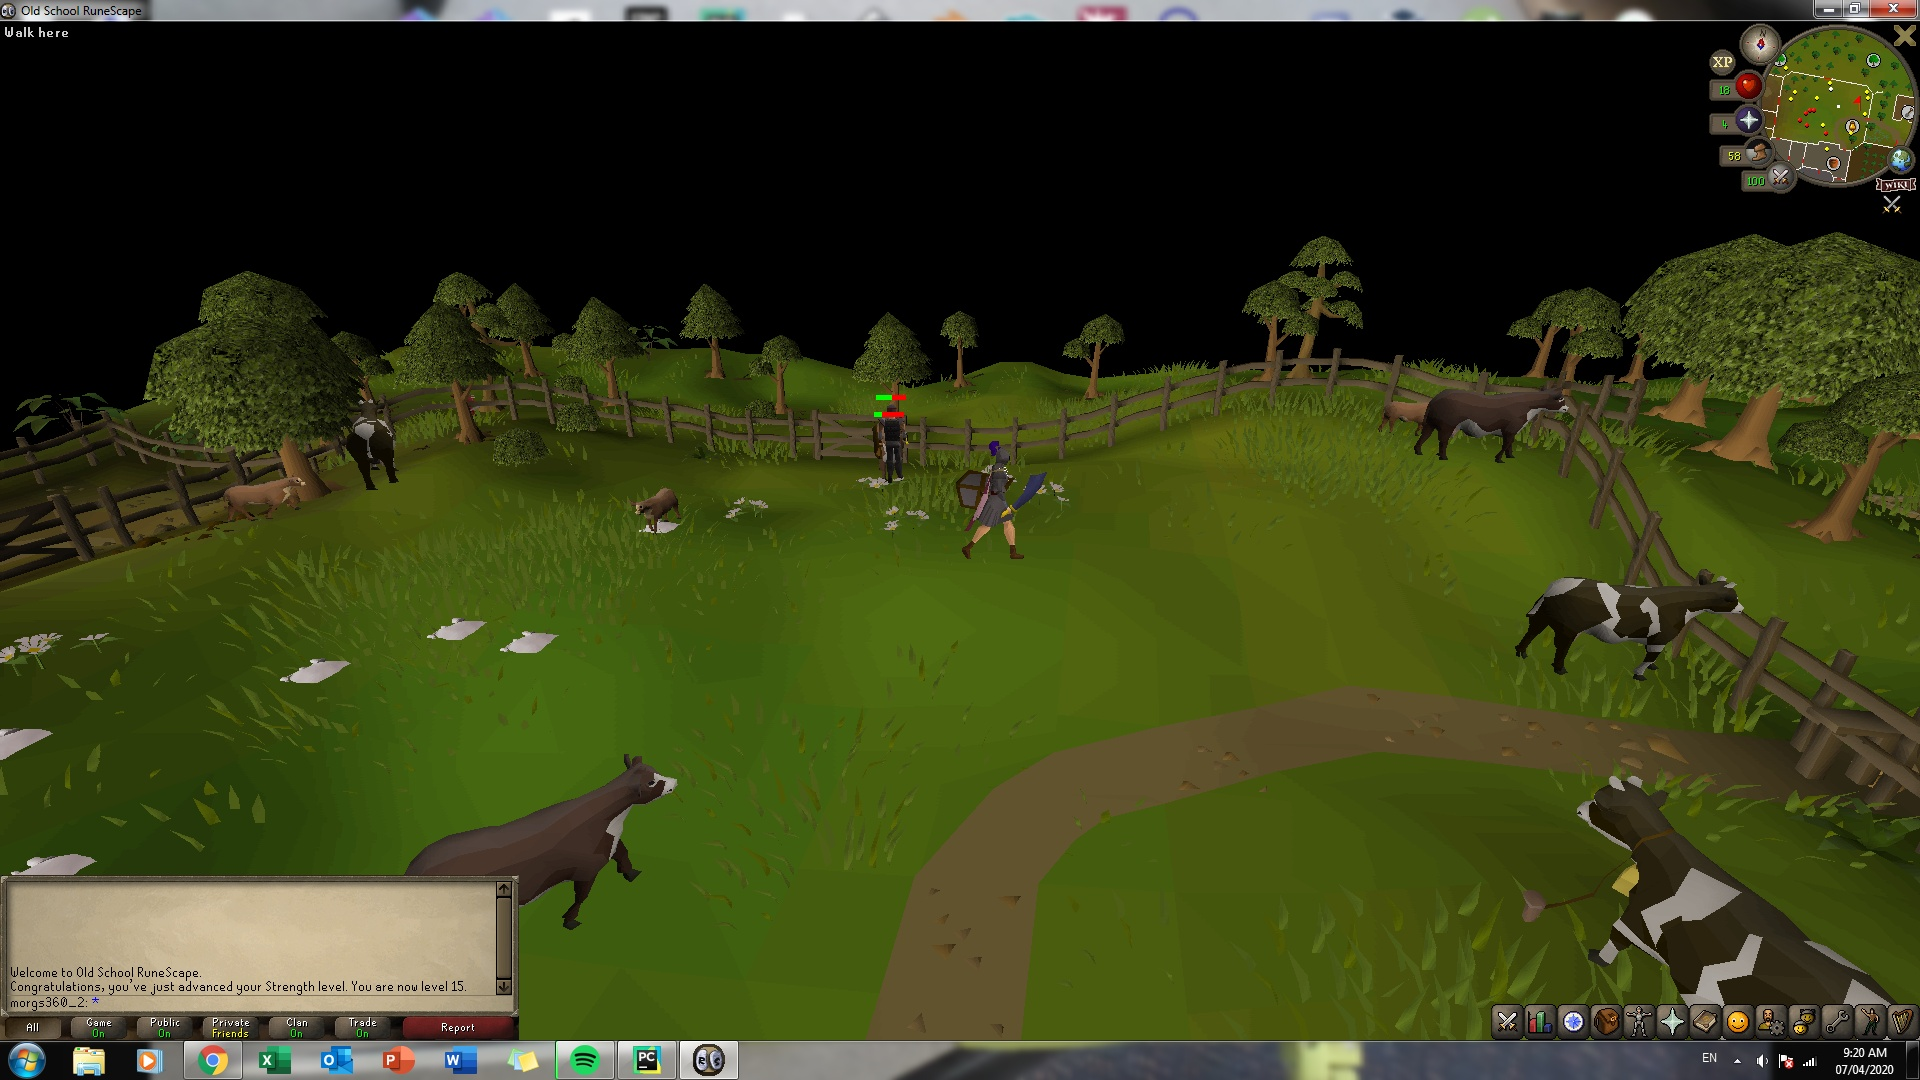cow: (523, 753, 681, 932), (1516, 569, 1745, 686), (1414, 382, 1573, 464), (345, 394, 402, 490), (219, 471, 312, 519), (631, 480, 680, 537), (1374, 394, 1427, 436)
player: (962, 433, 1024, 564)
